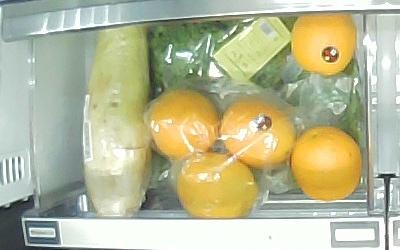orange: (291, 126, 362, 201), (291, 13, 356, 75)
orange_vinyl: (177, 153, 258, 218), (220, 100, 294, 170), (150, 89, 220, 159)
